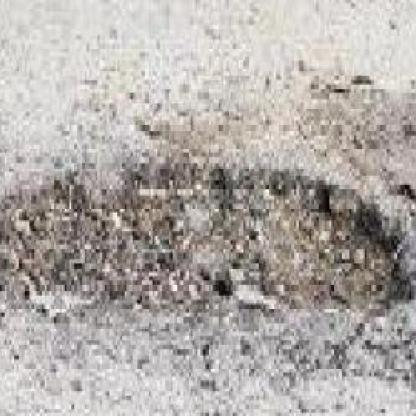pothole: (0, 147, 416, 321)
